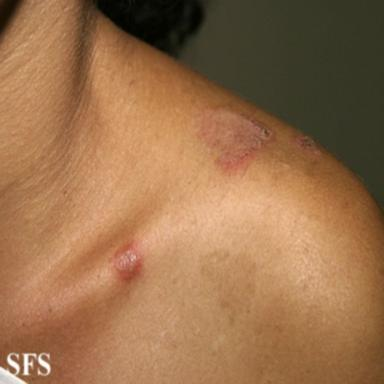Hailey-Hailey-Disease: (193, 104, 275, 178), (111, 240, 143, 281), (292, 134, 323, 157)
